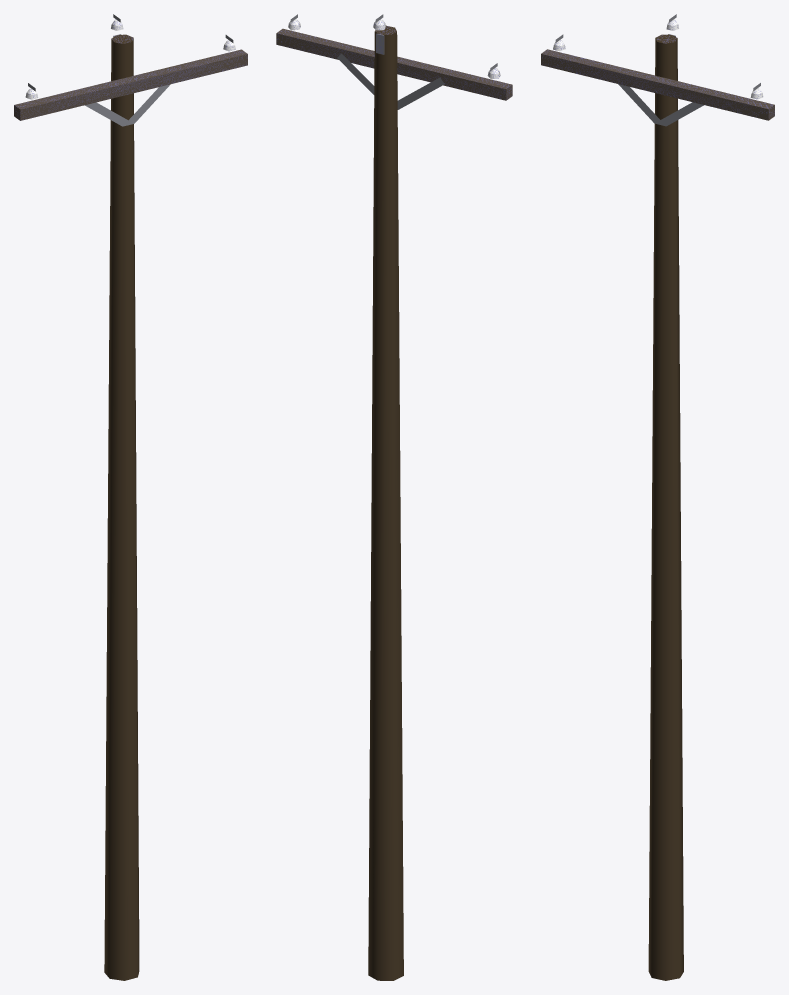
Rendered from WoodenPole.dae.
3 views of the same model, side by side, from view 1: azimuth 30°, elevation 25°; view 2: azimuth 150°, elevation 25°; view 3: azimuth 330°, elevation 25° (orthographic).
Parts seen in each view (by area): view 1: pole2, Model, brace_small; view 2: pole2, Model, brace_small; view 3: pole2, Model, brace_small.
Boxes of the visible parts, x1,y1,x2,y2 form: pole2: (104,34,139,980); Model: (14,34,247,120); brace_small: (85,84,170,126); pole2: (368,25,403,980); Model: (276,28,512,100); brace_small: (337,53,444,109); pole2: (648,34,683,980); Model: (541,34,774,120); brace_small: (618,84,703,126).
Bounding box in the file's own units: 107 × 17.56 × 426.
